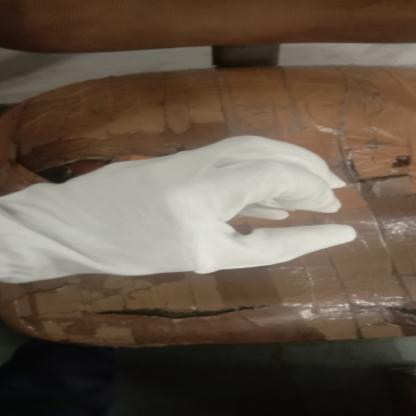gloved_hand: (2, 133, 369, 288)
